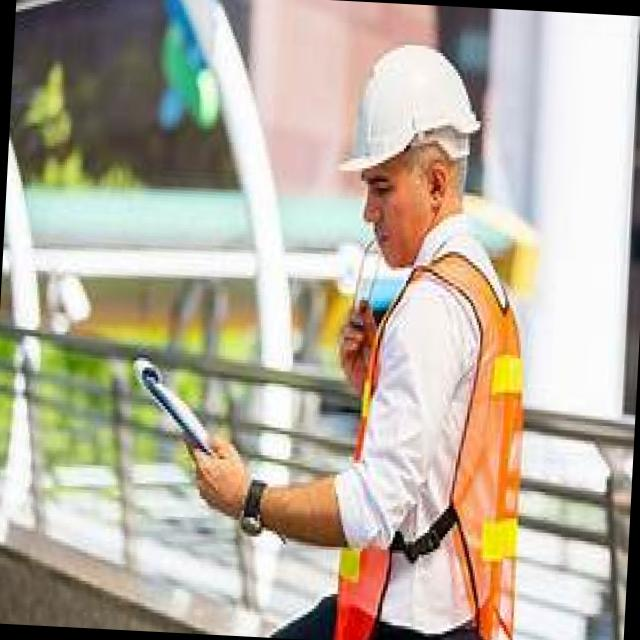not-gloved: (172, 417, 264, 536), (334, 285, 388, 393)
